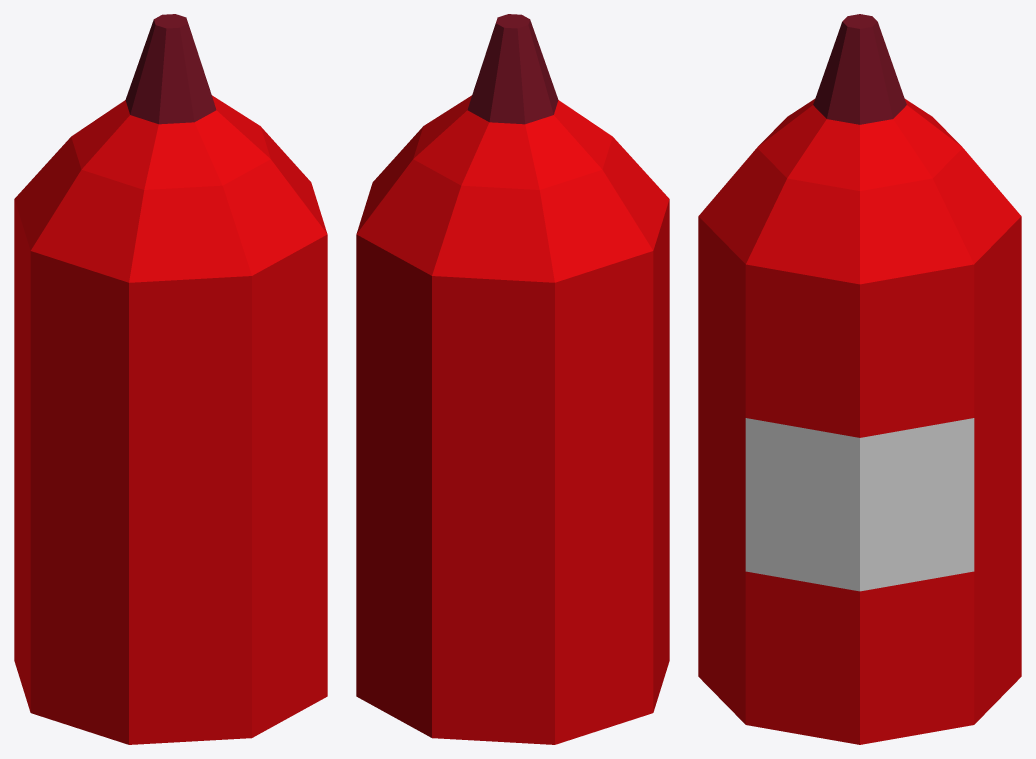
The model's file is Ketchup.gltf.
3 views of the same model, side by side, from view 1: azimuth 30°, elevation 25°; view 2: azimuth 150°, elevation 25°; view 3: azimuth 270°, elevation 25° (orthographic).
Parts seen in each view (by area): view 1: Cylinder; view 2: Cylinder; view 3: Cylinder.
Part boxes in pixels (bbox=[...]): Cylinder: bbox=[14, 14, 327, 744]; Cylinder: bbox=[356, 14, 669, 744]; Cylinder: bbox=[698, 14, 1021, 744].
Size of the model in its own units: 0.12 by 0.2686 by 0.12.
1 material, 1 textured.
